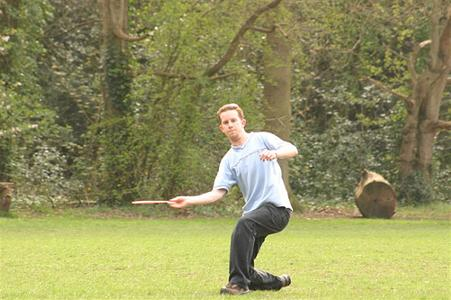person: (167, 104, 300, 295)
